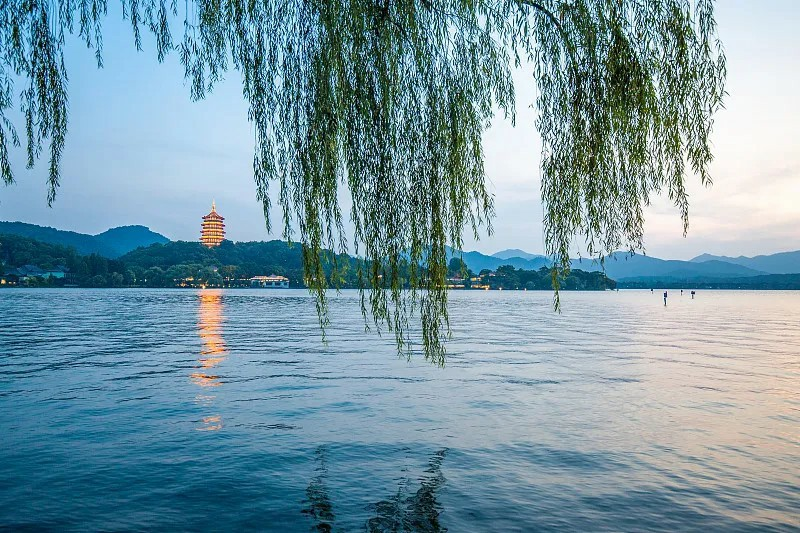Leifeng: (198, 199, 226, 248)
